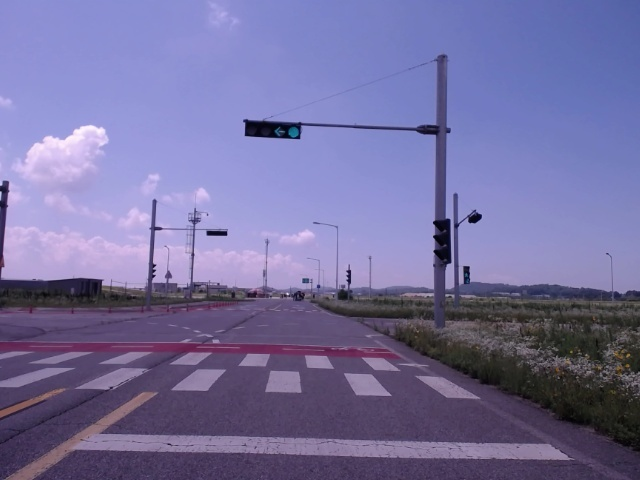all_green_4: (254, 121, 302, 140)
